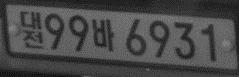1: (198, 23, 223, 62)
3: (173, 20, 195, 59)
6: (125, 18, 147, 56)
9: (148, 18, 170, 58), (67, 14, 89, 52), (44, 12, 65, 50)
대전_V: (19, 10, 44, 49)
바: (92, 18, 115, 52)
